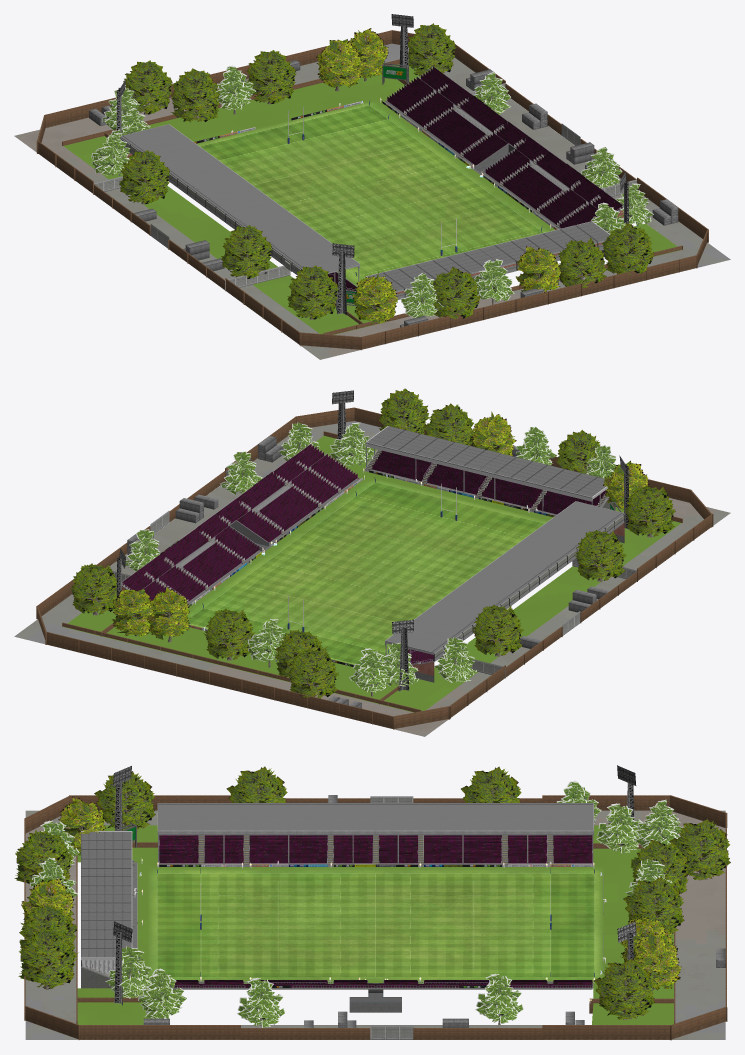
File: stade-club-2.glb
3 renders of one model, top to bottom at view 1: azimuth 30°, elevation 25°; view 2: azimuth 150°, elevation 25°; view 3: azimuth 270°, elevation 25°, orthographic. The views are drawn at different scales.
Visible parts, largest first — view 1: PITCH 1, StadiumCrowdSectionWest-FlatCrowdMeshes, Outer_Surround, SIDE_STAND_02_1TIER_MURRAY_MAIN_COLOUR_MAIN, STAND_02_END_MILLENNIUM_MAIN, Oak2-With-Wind-And-AO (1) (×2), Oak2-With-Wind-And-AO (2) (×2), Oak2-With-Wind-And-AO (×2), Inner_Surround_Side_C, Oak1-With-Wind-And-AO (1) (×2), Oak1-With-Wind-And-AO (×2), Inner_Surround (+22 smaller); view 2: PITCH 1, StadiumCrowdSectionWest-FlatCrowdMeshes, SIDE_STAND_02_1TIER_MURRAY_MAIN_COLOUR_MAIN, Outer_Surround, STAND_02_END_MILLENNIUM_MAIN, StadiumCrowdSectionNorth-FlatCrowdMeshes, Oak2-With-Wind-And-AO (1) (×2), Inner_Surround, Inner_Surround_Side_C, Oak2-With-Wind-And-AO (×2), Oak1-With-Wind-And-AO (1) (×2), Oak1-With-Wind-And-AO (×2) (+23 smaller); view 3: PITCH 1, SIDE_STAND_02_1TIER_MURRAY_MAIN_COLOUR_MAIN, StadiumCrowdSectionEast-FlatCrowdMeshes, Outer_Surround, STAND_02_END_MILLENNIUM_MAIN, Inner_Surround, Oak2-With-Wind-And-AO (1) (×2), Oak2-With-Wind-And-AO (×2), SIDE_STAND_02_1TIER_MURRAY_MAIN, Oak1-With-Wind-And-AO (×2), Oak2-With-Wind-And-AO (2) (×2), Maple2-With-Wind-And-AO (5) (×2) (+41 smaller).
Boxes of the visible parts, bbox=[...] form: PITCH 1: bbox=[196, 99, 554, 286]; StadiumCrowdSectionWest-FlatCrowdMeshes: bbox=[387, 66, 622, 228]; Outer_Surround: bbox=[14, 43, 730, 359]; SIDE_STAND_02_1TIER_MURRAY_MAIN_COLOUR_MAIN: bbox=[121, 124, 359, 290]; STAND_02_END_MILLENNIUM_MAIN: bbox=[365, 221, 610, 299]; Oak2-With-Wind-And-AO (1) (×2): bbox=[245, 50, 654, 274]; Oak2-With-Wind-And-AO (2) (×2): bbox=[171, 68, 606, 287]; Oak2-With-Wind-And-AO (×2): bbox=[123, 60, 480, 320]; Inner_Surround_Side_C: bbox=[101, 172, 309, 310]; Oak1-With-Wind-And-AO (1) (×2): bbox=[316, 39, 561, 294]; Oak1-With-Wind-And-AO (×2): bbox=[348, 28, 397, 324]; Inner_Surround: bbox=[63, 64, 681, 334]; PITCH 1: bbox=[187, 476, 548, 665]; StadiumCrowdSectionWest-FlatCrowdMeshes: bbox=[122, 444, 357, 601]; SIDE_STAND_02_1TIER_MURRAY_MAIN_COLOUR_MAIN: bbox=[385, 501, 624, 664]; Outer_Surround: bbox=[14, 421, 730, 736]; STAND_02_END_MILLENNIUM_MAIN: bbox=[364, 426, 614, 515]; StadiumCrowdSectionNorth-FlatCrowdMeshes: bbox=[372, 450, 606, 514]; Oak2-With-Wind-And-AO (1) (×2): bbox=[204, 388, 429, 660]; Inner_Surround: bbox=[63, 435, 681, 712]; Inner_Surround_Side_C: bbox=[434, 542, 645, 687]; Oak2-With-Wind-And-AO (×2): bbox=[287, 430, 605, 698]; Oak1-With-Wind-And-AO (1) (×2): bbox=[146, 411, 516, 642]; Oak1-With-Wind-And-AO (×2): bbox=[112, 460, 648, 636]; PITCH 1: bbox=[148, 867, 603, 983]; SIDE_STAND_02_1TIER_MURRAY_MAIN_COLOUR_MAIN: bbox=[157, 803, 593, 864]; StadiumCrowdSectionEast-FlatCrowdMeshes: bbox=[159, 835, 592, 863]; Outer_Surround: bbox=[25, 810, 725, 1039]; STAND_02_END_MILLENNIUM_MAIN: bbox=[81, 831, 137, 988]; Inner_Surround: bbox=[77, 825, 673, 1024]; Oak2-With-Wind-And-AO (1) (×2): bbox=[18, 876, 684, 989]; Oak2-With-Wind-And-AO (×2): bbox=[14, 818, 730, 884]; SIDE_STAND_02_1TIER_MURRAY_MAIN: bbox=[157, 803, 593, 866]; Oak1-With-Wind-And-AO (×2): bbox=[58, 796, 681, 990]; Oak2-With-Wind-And-AO (2) (×2): bbox=[19, 839, 688, 950]; Maple2-With-Wind-And-AO (5) (×2): bbox=[105, 803, 642, 998].
Size of the model in its own units: 156 by 27.83 by 205.
Materials: 16 (16 with a texture image).
